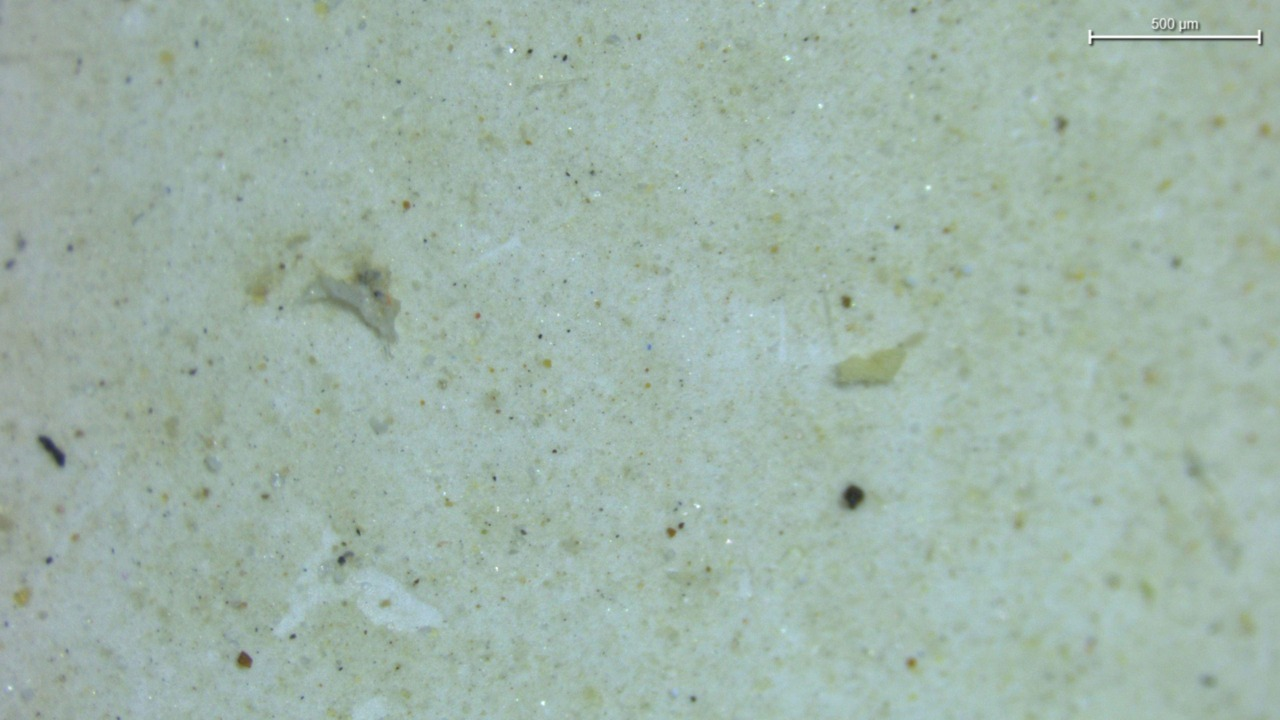microplastic_fragment: (305, 269, 400, 352), (834, 333, 921, 387)
